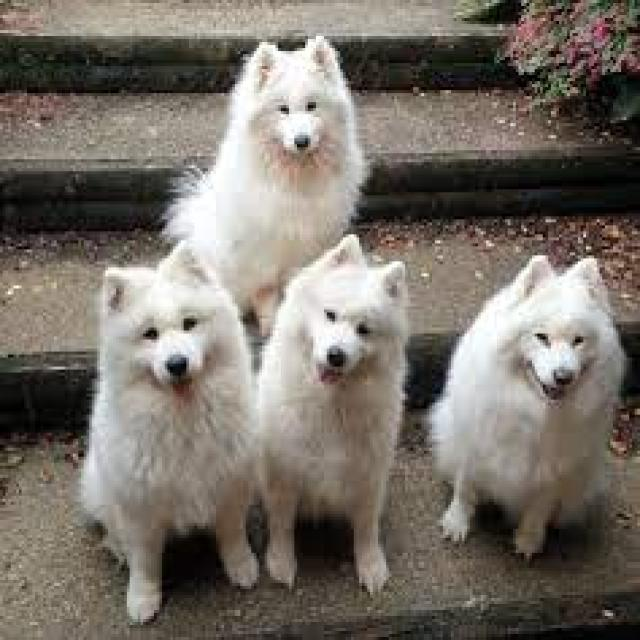dogs: (78, 239, 262, 628), (160, 34, 371, 334), (426, 256, 628, 560), (255, 235, 418, 600)
